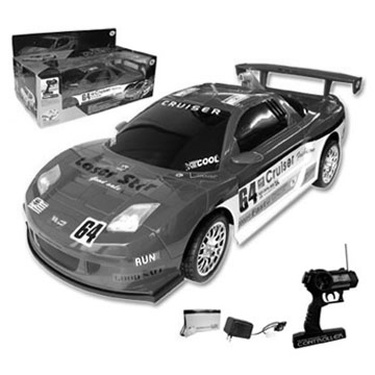car: (20, 59, 365, 308), (31, 44, 155, 110), (8, 35, 80, 65)
